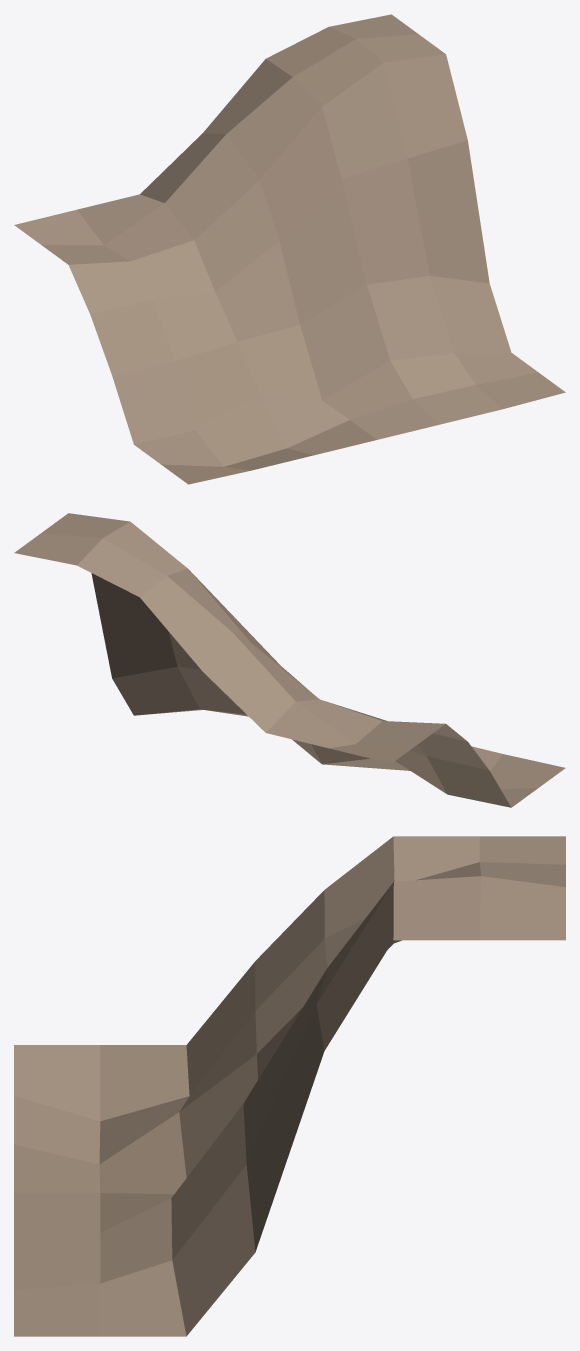
File: Groborchik_RiverBank_Trans_Down4-2.fbx
3 views of the same model, one above another, from view 1: azimuth 30°, elevation 25°; view 2: azimuth 150°, elevation 25°; view 3: azimuth 270°, elevation 25° (orthographic). The views are drawn at different scales.
Parts seen in each view (by area): view 1: Trans_Down4-2; view 2: Trans_Down4-2; view 3: Trans_Down4-2.
Part boxes in pixels (x1=…): Trans_Down4-2: x1=14, y1=14, x2=565, y2=484; Trans_Down4-2: x1=14, y1=513, x2=565, y2=807; Trans_Down4-2: x1=14, y1=836, x2=565, y2=1336.
Size of the model in its own units: 1000 by 704 by 800.
